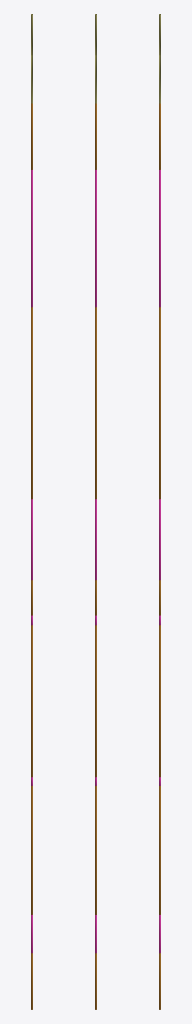
File: HCDLQSCSSLGYDYSDZDCXM202007250017.gltf
The picture shows the model from 3 angles, left to right: view 1: azimuth 90°, elevation 25°; view 2: azimuth 210°, elevation 25°; view 3: azimuth 270°, elevation 25°; orthographic projection.
Parts seen in each view (by area): view 1: HCDLQSCSSLGYDYSDZDCXM2020072500324, HCDLQSCSSLGYDYSDZDCXM2020072500328, HCDLQSCSSLGYDYSDZDCXM2020072500323, HCDLQSCSSLGYDYSDZDCXM2020072500330, HCDLQSCSSLGYDYSDZDCXM2020072500321, HCDLQSCSSLGYDYSDZDCXM2020072500325, HCDLQSCSSLGYDYSDZDCXM2020072500322; view 2: HCDLQSCSSLGYDYSDZDCXM2020072500324, HCDLQSCSSLGYDYSDZDCXM2020072500328, HCDLQSCSSLGYDYSDZDCXM2020072500323, HCDLQSCSSLGYDYSDZDCXM2020072500330, HCDLQSCSSLGYDYSDZDCXM2020072500321, HCDLQSCSSLGYDYSDZDCXM2020072500325, HCDLQSCSSLGYDYSDZDCXM2020072500322; view 3: HCDLQSCSSLGYDYSDZDCXM2020072500324, HCDLQSCSSLGYDYSDZDCXM2020072500328, HCDLQSCSSLGYDYSDZDCXM2020072500323, HCDLQSCSSLGYDYSDZDCXM2020072500330, HCDLQSCSSLGYDYSDZDCXM2020072500321, HCDLQSCSSLGYDYSDZDCXM2020072500325, HCDLQSCSSLGYDYSDZDCXM2020072500322.
Boxes of the visible parts, left/top/right/bottom form: HCDLQSCSSLGYDYSDZDCXM2020072500324: left=31, top=307, right=32, bottom=499; HCDLQSCSSLGYDYSDZDCXM2020072500328: left=31, top=625, right=32, bottom=777; HCDLQSCSSLGYDYSDZDCXM2020072500323: left=31, top=170, right=32, bottom=307; HCDLQSCSSLGYDYSDZDCXM2020072500330: left=31, top=786, right=32, bottom=914; HCDLQSCSSLGYDYSDZDCXM2020072500321: left=31, top=14, right=32, bottom=103; HCDLQSCSSLGYDYSDZDCXM2020072500325: left=31, top=499, right=32, bottom=580; HCDLQSCSSLGYDYSDZDCXM2020072500322: left=31, top=103, right=32, bottom=169; HCDLQSCSSLGYDYSDZDCXM2020072500324: left=95, top=307, right=96, bottom=499; HCDLQSCSSLGYDYSDZDCXM2020072500328: left=95, top=625, right=96, bottom=777; HCDLQSCSSLGYDYSDZDCXM2020072500323: left=95, top=170, right=96, bottom=307; HCDLQSCSSLGYDYSDZDCXM2020072500330: left=95, top=786, right=96, bottom=914; HCDLQSCSSLGYDYSDZDCXM2020072500321: left=95, top=14, right=96, bottom=103; HCDLQSCSSLGYDYSDZDCXM2020072500325: left=95, top=499, right=96, bottom=580; HCDLQSCSSLGYDYSDZDCXM2020072500322: left=95, top=103, right=96, bottom=169; HCDLQSCSSLGYDYSDZDCXM2020072500324: left=159, top=307, right=160, bottom=499; HCDLQSCSSLGYDYSDZDCXM2020072500328: left=159, top=625, right=160, bottom=777; HCDLQSCSSLGYDYSDZDCXM2020072500323: left=159, top=170, right=160, bottom=307; HCDLQSCSSLGYDYSDZDCXM2020072500330: left=159, top=786, right=160, bottom=914; HCDLQSCSSLGYDYSDZDCXM2020072500321: left=159, top=14, right=160, bottom=103; HCDLQSCSSLGYDYSDZDCXM2020072500325: left=159, top=499, right=160, bottom=580; HCDLQSCSSLGYDYSDZDCXM2020072500322: left=159, top=103, right=160, bottom=169.
Bounding box in the file's own units: 0.127 × 61.6 × 0.127.
